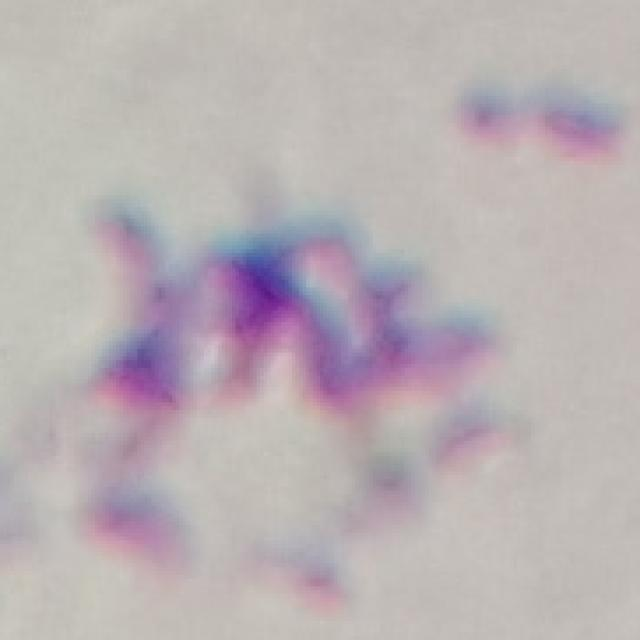non-sperm: (87, 202, 503, 432)
